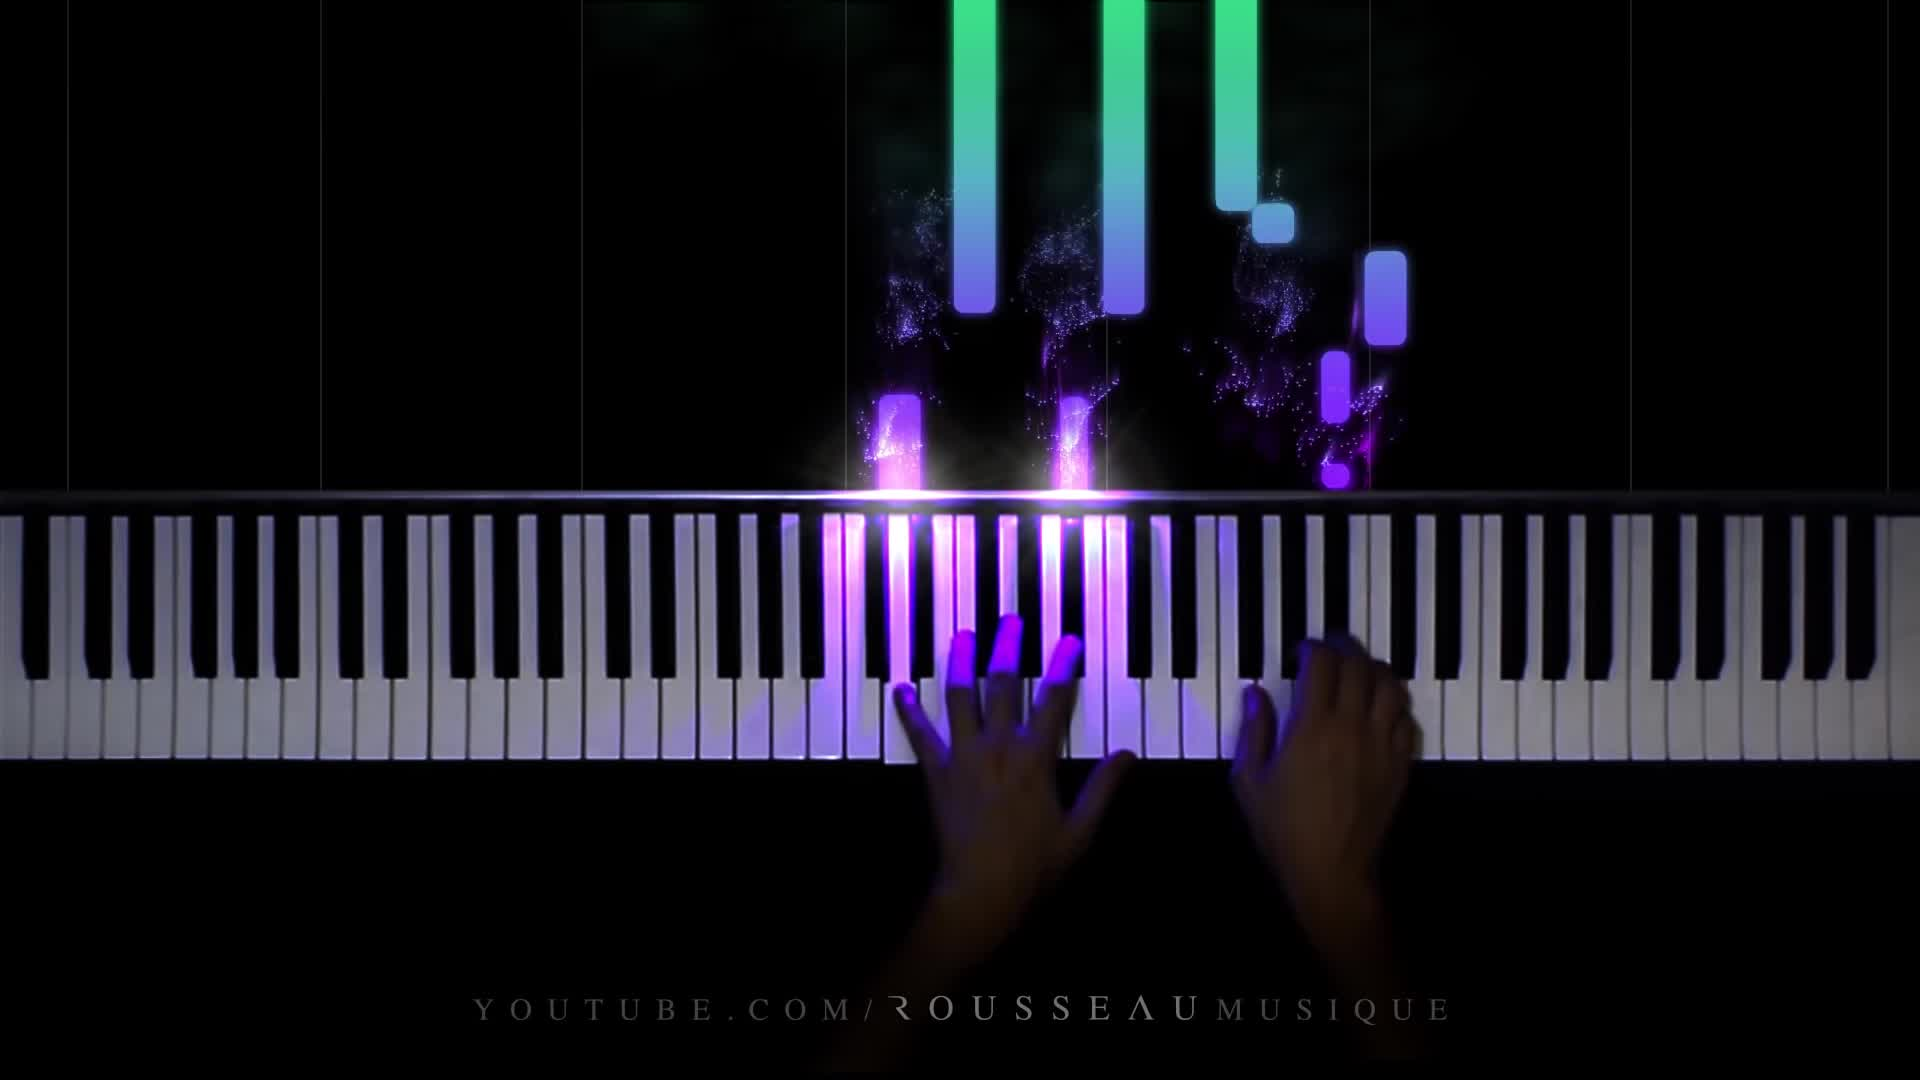left: (891, 613, 1135, 897)
right: (1226, 629, 1428, 899)
